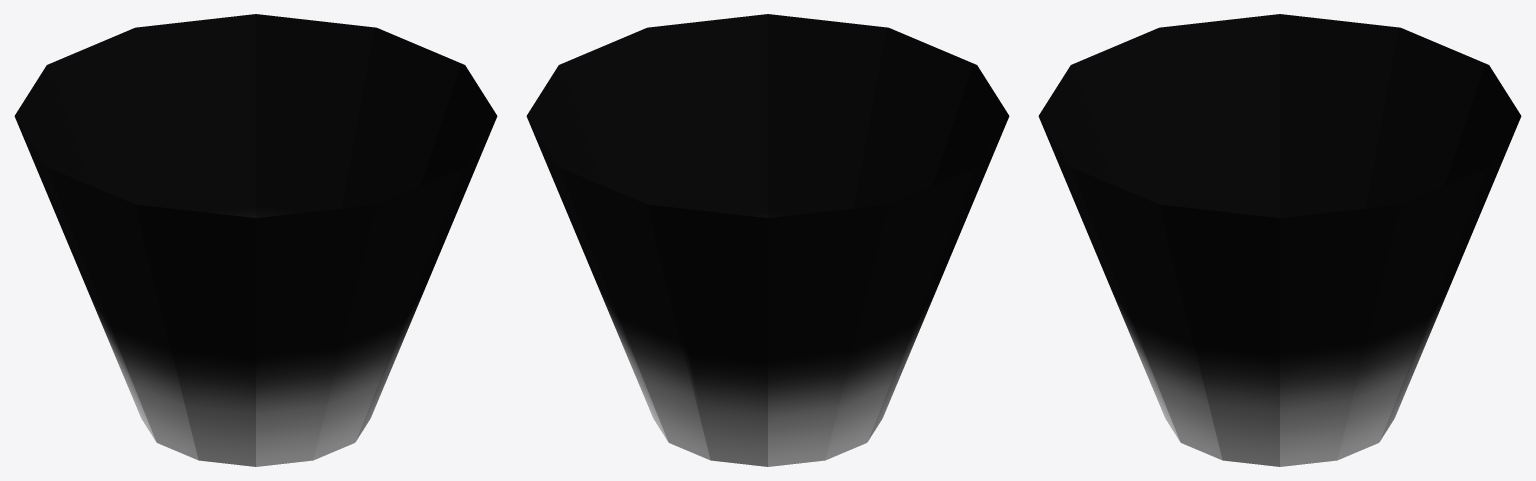
File: volume-rays04.fbx
The picture shows the model from 3 angles, left to right: view 1: azimuth 30°, elevation 25°; view 2: azimuth 150°, elevation 25°; view 3: azimuth 270°, elevation 25°; orthographic projection.
Parts seen in each view (by area): view 1: Xrays01; view 2: Xrays01; view 3: Xrays01.
Boxes of the visible parts, bbox=[...] form: Xrays01: bbox=[14, 14, 497, 466]; Xrays01: bbox=[526, 14, 1009, 466]; Xrays01: bbox=[1038, 14, 1521, 466].
Bounding box in the file's own units: 289 × 201 × 289.
